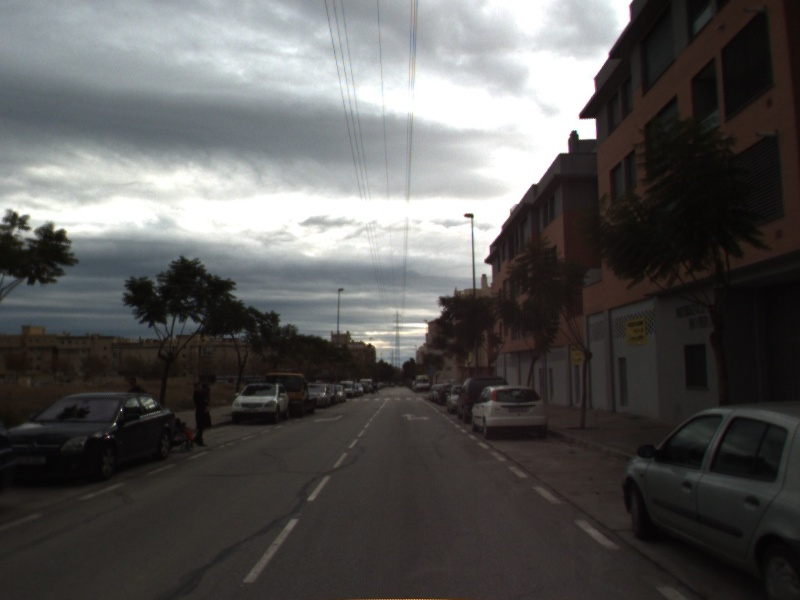STRAIGHT_RIGHT: (399, 411, 432, 423)
